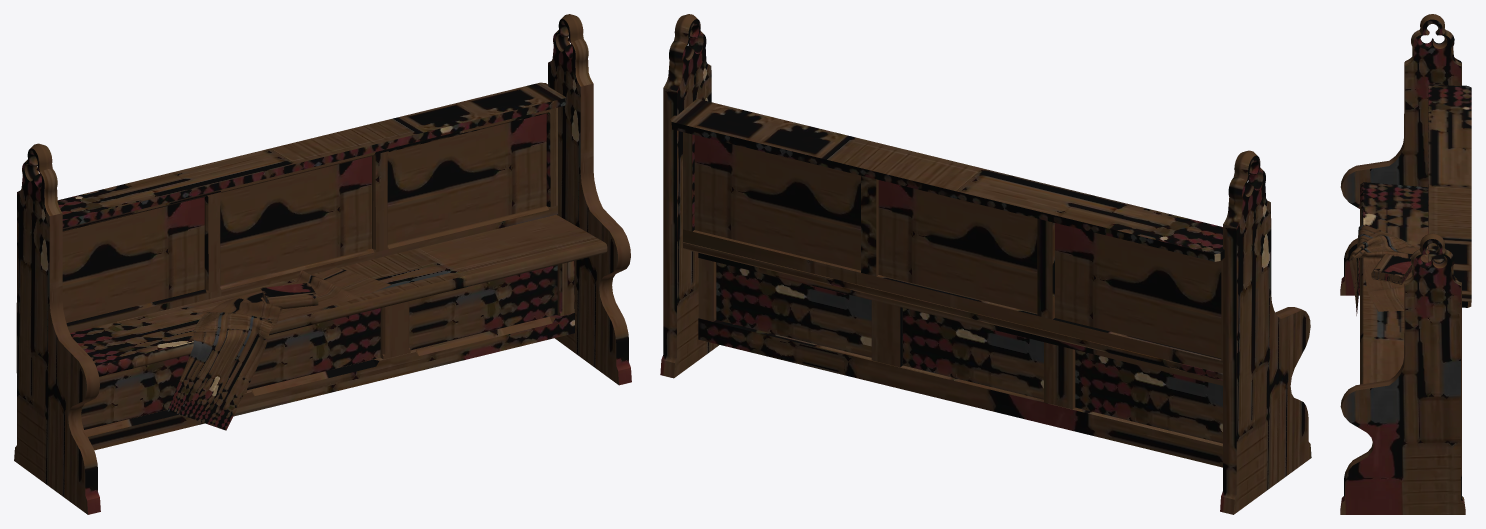
The model's file is t_banco_iglesia.glb.
3 views of the same model, side by side, from view 1: azimuth 30°, elevation 25°; view 2: azimuth 150°, elevation 25°; view 3: azimuth 270°, elevation 25° (orthographic). The views are drawn at different scales.
Visible parts, largest first — view 1: Bench_Default_0; view 2: Bench_Default_0; view 3: Bench_Default_0.
Part boxes in pixels (x1,y1,x2,y2): Bench_Default_0: (14,14,631,514); Bench_Default_0: (660,14,1311,514); Bench_Default_0: (1340,14,1471,514).
Bounding box in the file's own units: 2 × 1.15 × 0.4939.
1 material, 1 textured.
